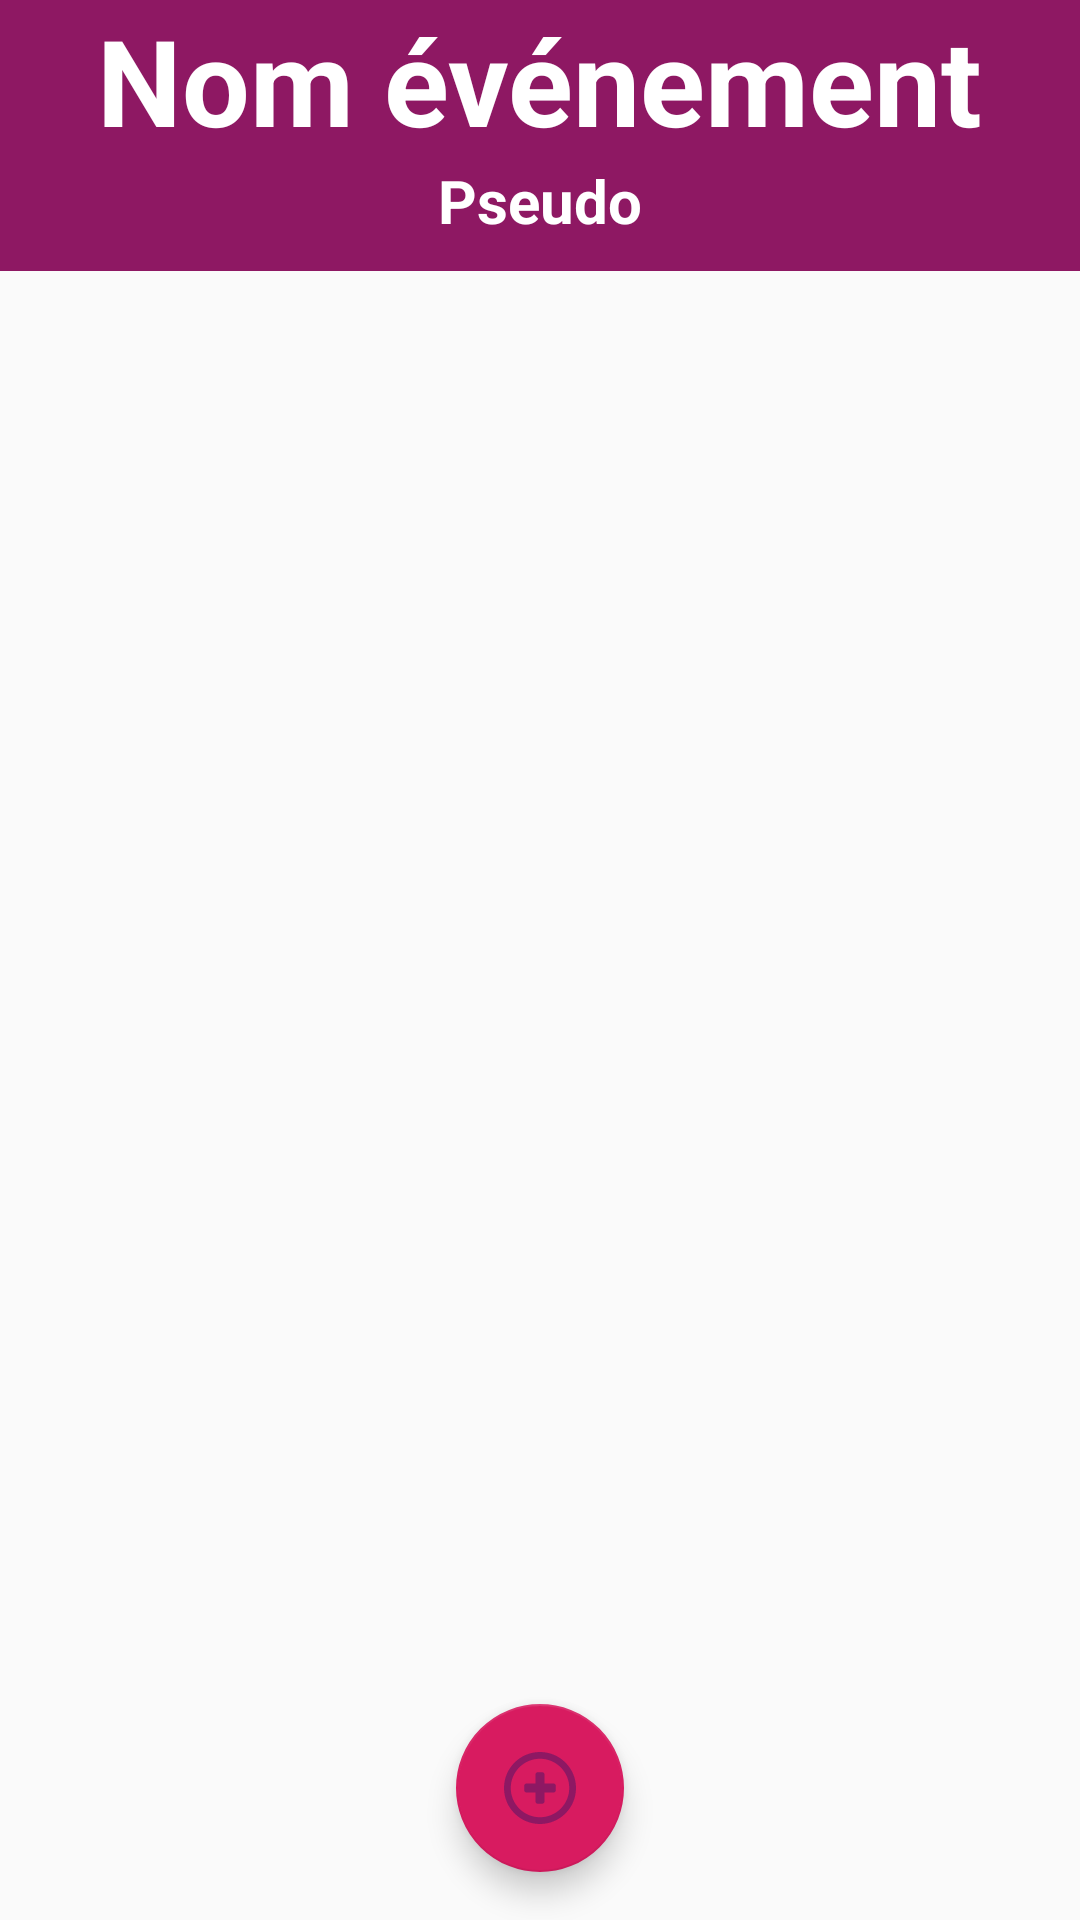

Screen size 1080x1920. Icon name, then its center in pixels as [x,y]:
plus: [540,1788]
